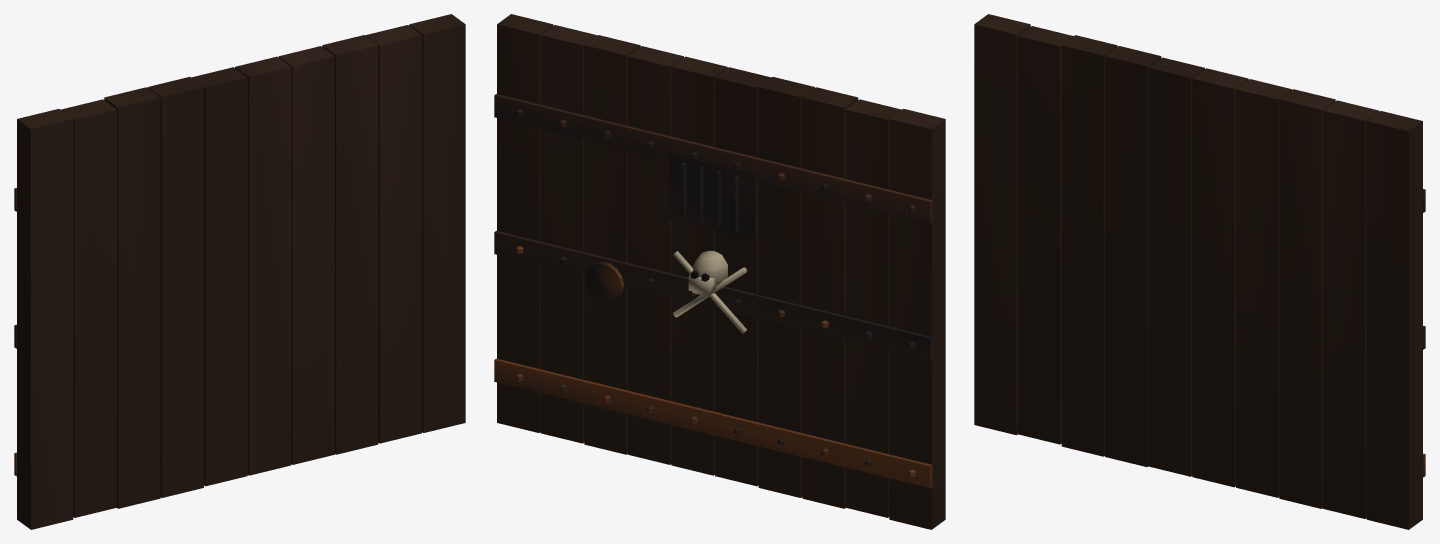
The model's file is ossuary-door.glb.
3 views of the same model, side by side, from view 1: azimuth 30°, elevation 25°; view 2: azimuth 150°, elevation 25°; view 3: azimuth 330°, elevation 25° (orthographic).
Visible parts, largest first — view 1: ossuary-door-wood; view 2: ossuary-door-wood, ossuary-door-iron, ossuary-door-bone; view 3: ossuary-door-wood.
Part boxes in pixels (x1,y1,x2,y2): ossuary-door-wood: (17, 14, 465, 529); ossuary-door-wood: (497, 14, 945, 529); ossuary-door-iron: (494, 94, 932, 487); ossuary-door-bone: (673, 250, 747, 333); ossuary-door-wood: (974, 14, 1422, 529).
Size of the model in its own units: 2.5 by 2.2 by 0.2984.
